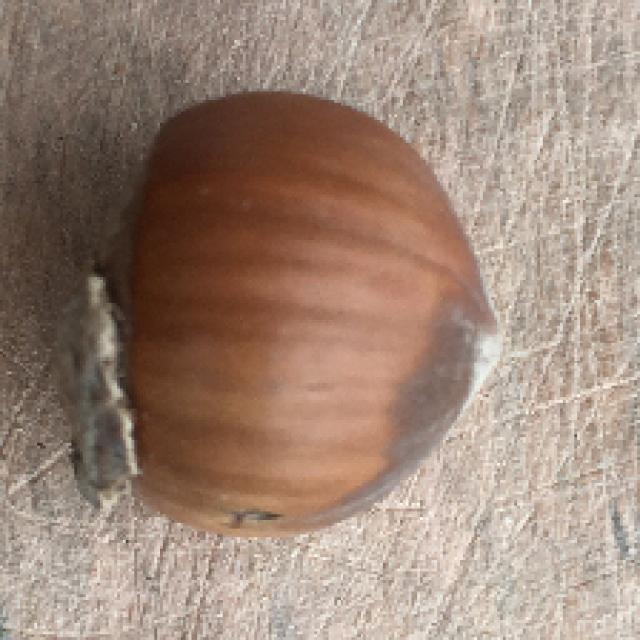DamagedHazelnut: (73, 83, 507, 536)
